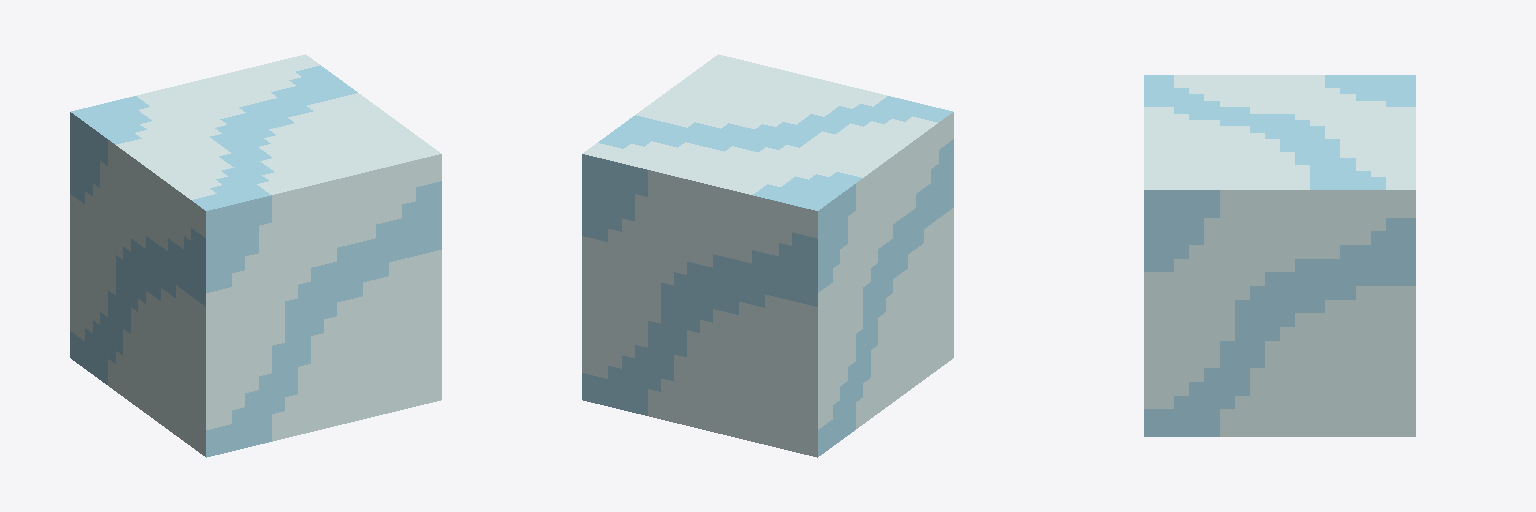
3 renders of one model, left to right at view 1: azimuth 30°, elevation 25°; view 2: azimuth 150°, elevation 25°; view 3: azimuth 270°, elevation 25°, orthographic.
Visible parts, largest first — view 1: cube; view 2: cube; view 3: cube.
Boxes of the visible parts, x1=… form: cube: x1=70, y1=54, x2=441, y2=457; cube: x1=582, y1=54, x2=953, y2=457; cube: x1=1144, y1=75, x2=1415, y2=436.
Bounding box in the file's own units: 1 × 1 × 1.
1 materials, 1 textured.